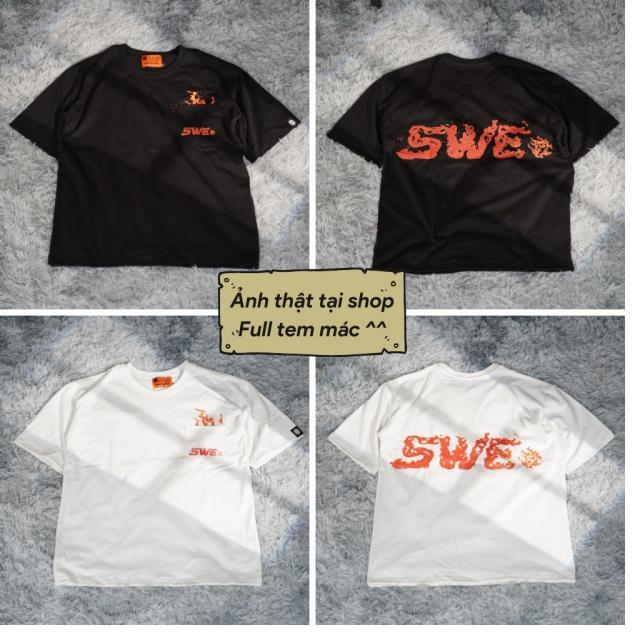Shirt: (8, 41, 300, 270), (326, 49, 622, 270), (326, 362, 616, 586), (15, 366, 306, 586)
